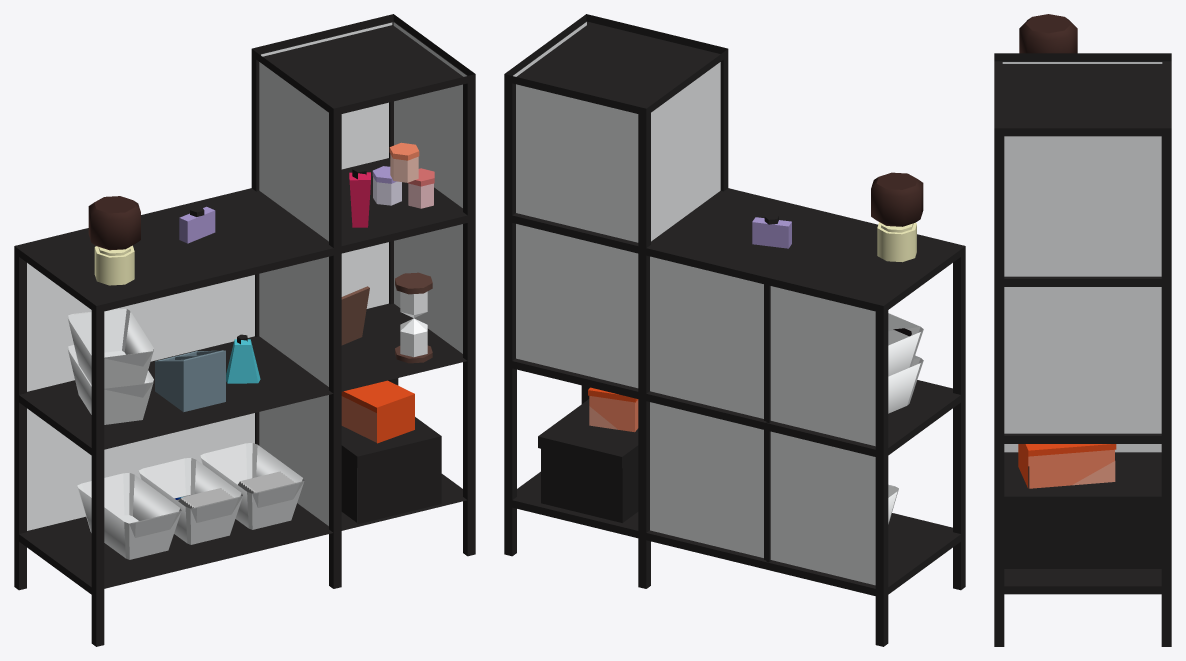
The model's file is M_woshigui01.FBX.
3 renders of one model, left to right at view 1: azimuth 30°, elevation 25°; view 2: azimuth 150°, elevation 25°; view 3: azimuth 270°, elevation 25°, orthographic. The views are drawn at different scales.
Parts seen in each view (by area): view 1: M_woshigui01_01, M_woshigui01_02, M_woshigui01_05, M_woshigui01_03, M_woshigui01_08, M_woshigui01_04, M_woshigui01_06; view 2: M_woshigui01_02, M_woshigui01_01, M_woshigui01_03, M_woshigui01_05, M_woshigui01_08; view 3: M_woshigui01_02, M_woshigui01_01, M_woshigui01_03, M_woshigui01_08.
Boxes of the visible parts, left/top/right/bottom form: M_woshigui01_01: left=14, top=14, right=475, bottom=646; M_woshigui01_02: left=27, top=22, right=466, bottom=530; M_woshigui01_05: left=67, top=166, right=370, bottom=559; M_woshigui01_03: left=341, top=142, right=441, bottom=524; M_woshigui01_08: left=88, top=196, right=140, bottom=250; M_woshigui01_04: left=400, top=291, right=427, bottom=357; M_woshigui01_06: left=174, top=471, right=295, bottom=508; M_woshigui01_02: left=513, top=22, right=875, bottom=585; M_woshigui01_01: left=504, top=14, right=965, bottom=646; M_woshigui01_03: left=538, top=387, right=638, bottom=522; M_woshigui01_05: left=752, top=214, right=923, bottom=524; M_woshigui01_08: left=871, top=172, right=923, bottom=226; M_woshigui01_02: left=1002, top=62, right=1162, bottom=452; M_woshigui01_01: left=994, top=53, right=1171, bottom=646; M_woshigui01_03: left=1004, top=444, right=1161, bottom=568; M_woshigui01_08: left=1019, top=14, right=1077, bottom=53.
Bounding box in the file's own units: 2.67 × 3.23 × 1.
